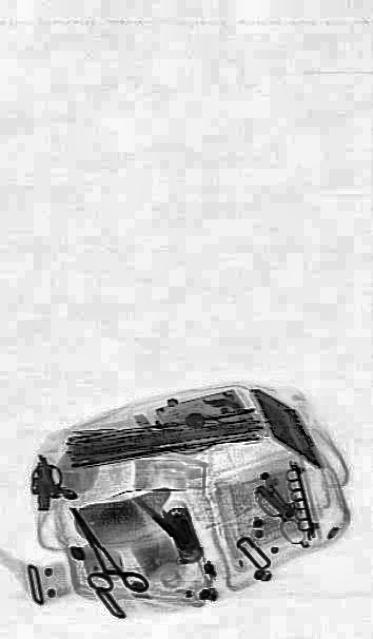Scissors: (57, 481, 149, 633)
